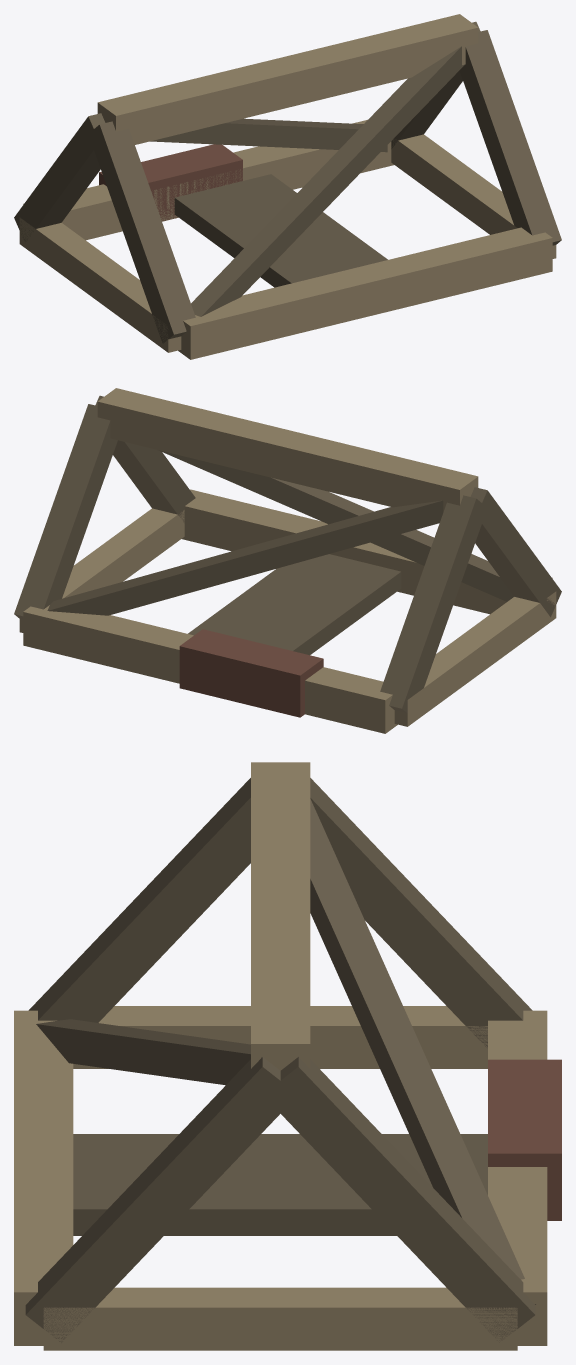
Rendered from ancient_crane_arm_small.obj.
3 views of the same model, one above another, from view 1: azimuth 30°, elevation 25°; view 2: azimuth 150°, elevation 25°; view 3: azimuth 270°, elevation 25° (orthographic). The views are drawn at different scales.
Visible parts, largest first — view 1: ancient_crane_arm_small; view 2: ancient_crane_arm_small; view 3: ancient_crane_arm_small.
Part boxes in pixels (x1,y1,x2,y2): ancient_crane_arm_small: [14, 14, 561, 359]; ancient_crane_arm_small: [14, 388, 561, 733]; ancient_crane_arm_small: [14, 762, 561, 1350].
Bounding box in the file's own units: 0.964 × 0.45 × 0.74.
